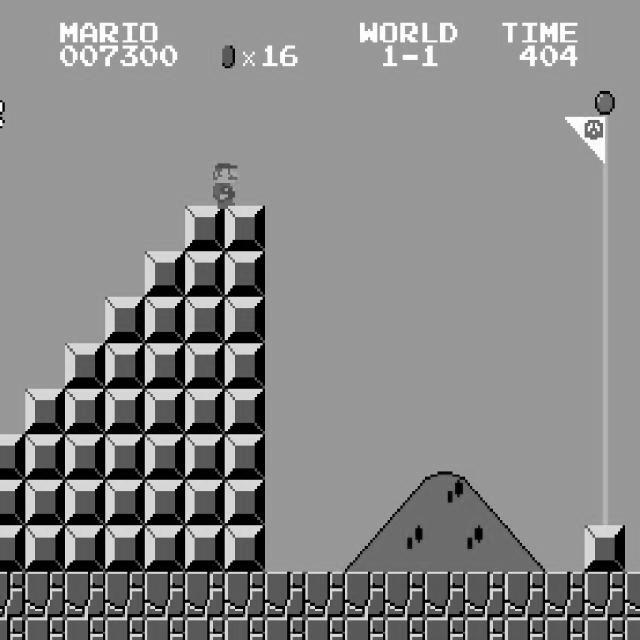11- little_mario: (202, 160, 245, 208)
17- undestructible_block: (24, 572, 66, 618), (64, 572, 106, 618), (104, 572, 146, 618), (144, 572, 186, 618), (184, 572, 226, 618), (224, 572, 266, 618), (264, 572, 306, 618), (304, 572, 346, 618), (344, 572, 386, 618), (384, 572, 426, 618), (424, 572, 466, 618), (464, 572, 506, 618), (504, 572, 546, 618), (544, 572, 586, 618), (584, 572, 626, 618), (0, 571, 25, 617), (24, 617, 66, 640), (64, 617, 106, 640), (104, 617, 146, 640), (144, 617, 186, 640), (184, 617, 226, 640), (224, 617, 266, 640), (264, 617, 306, 640), (304, 617, 346, 640), (344, 617, 386, 640), (384, 617, 426, 640), (424, 617, 466, 640), (464, 617, 506, 640), (504, 617, 546, 640), (544, 617, 586, 640), (584, 617, 626, 640), (625, 572, 640, 618), (0, 617, 25, 639), (625, 617, 640, 640)
7- goal_pole: (584, 68, 626, 114), (584, 114, 626, 160), (584, 160, 626, 206), (584, 252, 626, 298), (584, 297, 626, 343), (584, 388, 626, 434), (584, 434, 626, 480), (584, 480, 626, 526), (584, 206, 626, 251), (584, 343, 626, 388)
9- hard_block: (24, 388, 66, 434), (24, 434, 66, 480), (24, 480, 66, 526), (24, 526, 66, 572), (64, 388, 106, 434), (64, 434, 106, 480), (64, 480, 106, 526), (64, 526, 106, 572), (104, 297, 146, 343), (104, 388, 146, 434), (104, 434, 146, 480), (104, 480, 146, 526), (104, 526, 146, 572), (144, 252, 186, 298), (144, 297, 186, 343), (144, 388, 186, 434), (144, 434, 186, 480), (144, 480, 186, 526), (144, 526, 186, 572), (184, 252, 226, 298), (184, 297, 226, 343), (184, 388, 226, 434), (184, 434, 226, 480), (184, 480, 226, 526), (184, 526, 226, 572), (224, 252, 266, 298), (224, 297, 266, 343), (224, 388, 266, 434), (224, 434, 266, 480), (224, 480, 266, 526), (224, 526, 266, 572), (584, 526, 626, 572), (64, 343, 106, 388), (104, 343, 146, 388), (144, 343, 186, 388), (184, 206, 226, 251), (184, 343, 226, 388), (224, 206, 266, 251), (224, 343, 266, 388), (0, 525, 25, 571), (0, 434, 25, 479), (0, 480, 25, 525)
